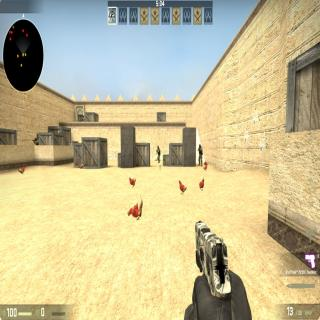CT-Body: (197, 143, 203, 165), (156, 144, 160, 162), (33, 136, 39, 146)
CT-Head: (34, 137, 37, 141), (199, 143, 201, 148), (157, 144, 159, 148)
T-Body: (82, 115, 85, 122)
